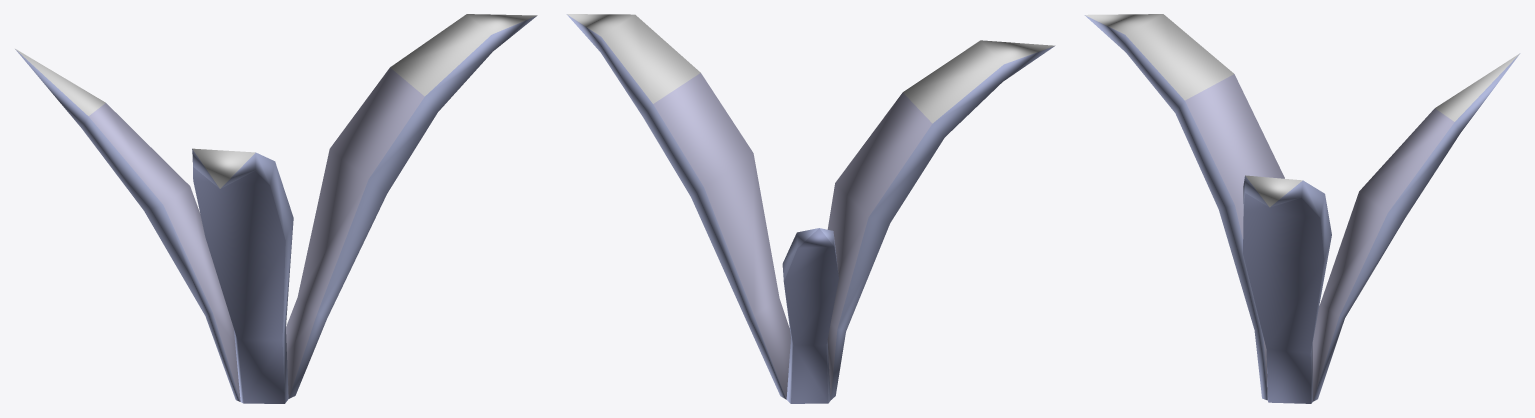
Rendered from Prop_Plant_03.fbx.
The picture shows the model from 3 angles, left to right: view 1: azimuth 30°, elevation 25°; view 2: azimuth 150°, elevation 25°; view 3: azimuth 270°, elevation 25°; orthographic projection. The views are drawn at different scales.
Visible parts, largest first — view 1: Model_Plant_03; view 2: Model_Plant_03; view 3: Model_Plant_03.
Boxes of the visible parts, x1=… form: Model_Plant_03: x1=15, y1=14, x2=537, y2=403; Model_Plant_03: x1=566, y1=14, x2=1055, y2=403; Model_Plant_03: x1=1084, y1=14, x2=1520, y2=403.
Size of the model in its own units: 118 by 90.17 by 112.
